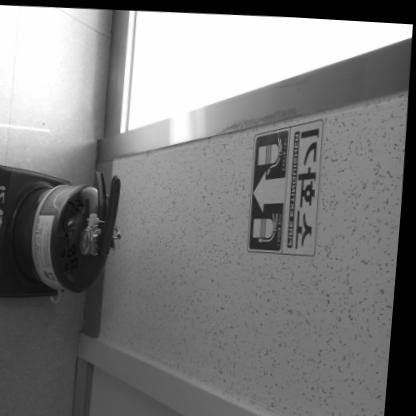FE: (0, 161, 126, 299)
